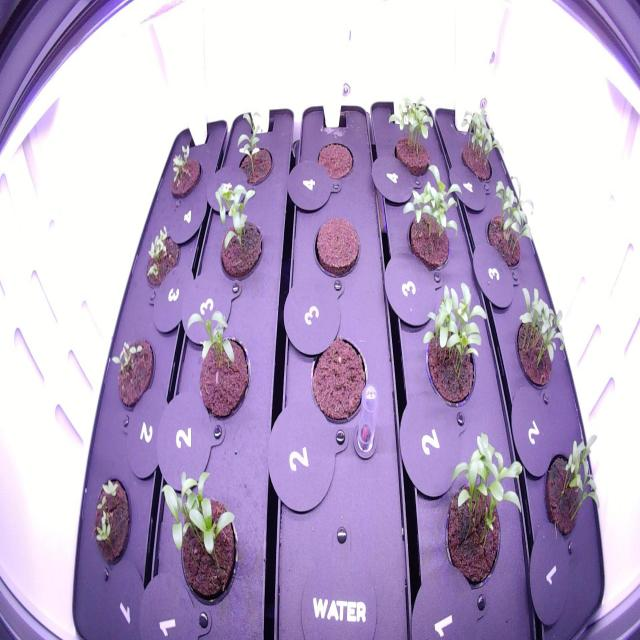germination: (437, 425, 526, 595), (161, 463, 243, 610), (418, 277, 492, 417), (181, 300, 256, 427), (397, 163, 467, 279), (539, 425, 602, 544), (204, 175, 269, 286), (510, 281, 568, 397), (478, 171, 538, 273), (103, 323, 158, 417), (87, 470, 135, 574), (456, 102, 509, 192), (382, 94, 439, 176), (230, 106, 276, 196), (138, 215, 185, 299), (161, 136, 205, 204)
pod: (304, 327, 373, 438), (308, 209, 364, 286), (308, 133, 356, 190)
